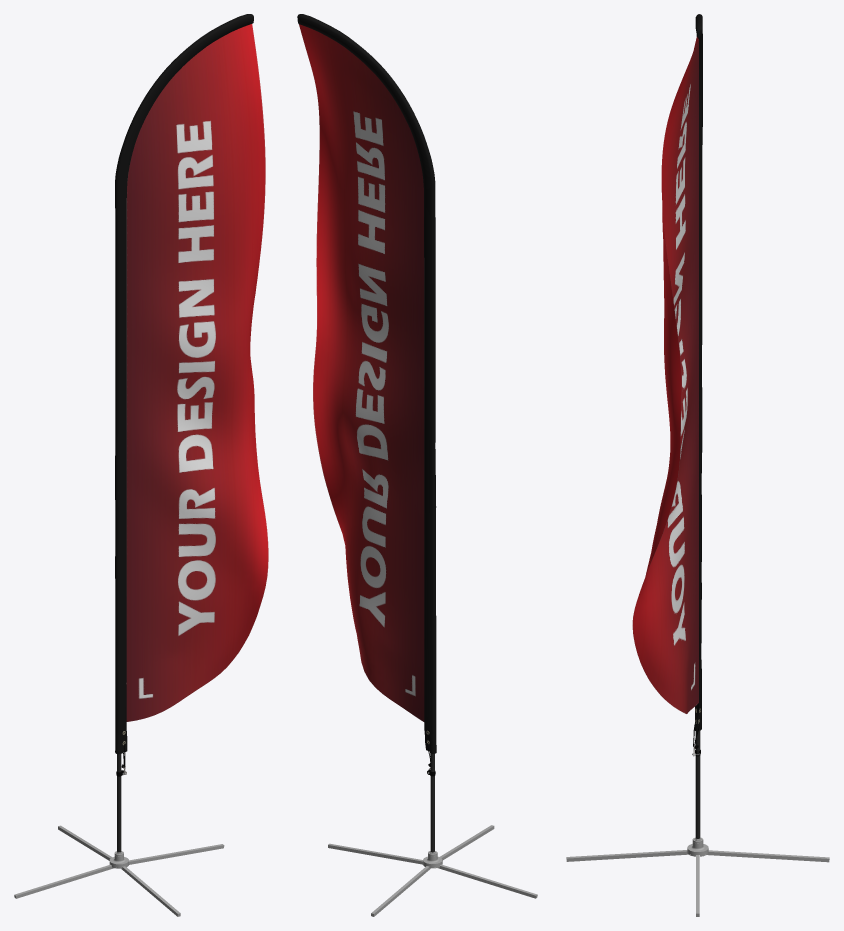
The model's file is Convex.glb.
The picture shows the model from 3 angles, left to right: view 1: azimuth 30°, elevation 25°; view 2: azimuth 150°, elevation 25°; view 3: azimuth 270°, elevation 25°; orthographic projection. The views are drawn at different scales.
Parts seen in each view (by area): view 1: L_vat, L_Pocket, Luxury cross base, Pole; view 2: L_vat, L_Pocket, Luxury cross base, Pole; view 3: L_vat, L_Pocket, Luxury cross base, Pole.
Part boxes in pixels (x1=…): L_vat: x1=126, y1=24, x2=268, y2=721; L_Pocket: x1=115, y1=14, x2=253, y2=754; Luxury cross base: x1=14, y1=825, x2=224, y2=916; Pole: x1=116, y1=743, x2=126, y2=853; L_vat: x1=299, y1=24, x2=424, y2=721; L_Pocket: x1=297, y1=14, x2=436, y2=753; Luxury cross base: x1=328, y1=825, x2=537, y2=916; Pole: x1=427, y1=742, x2=435, y2=852; L_vat: x1=632, y1=37, x2=698, y2=713; L_Pocket: x1=694, y1=14, x2=702, y2=733; Luxury cross base: x1=566, y1=837, x2=829, y2=916; Pole: x1=692, y1=722, x2=700, y2=839.
Size of the model in its own units: 1.42 by 4.7 by 1.24.
Materials: 16 (7 with a texture image).
